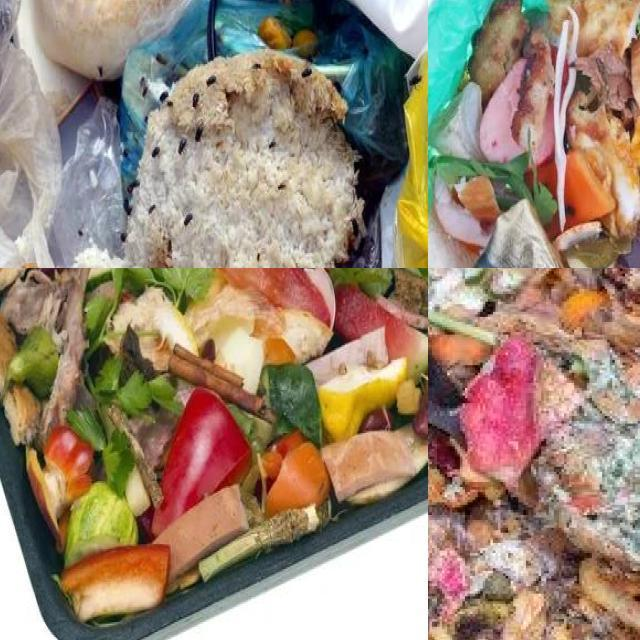Garbage: (0, 268, 428, 640), (428, 268, 640, 640), (428, 0, 640, 268)
Plastic_Bag: (396, 54, 428, 268)
contaminated_waste: (215, 0, 407, 185), (120, 0, 210, 195), (34, 0, 188, 81), (396, 52, 428, 268)
